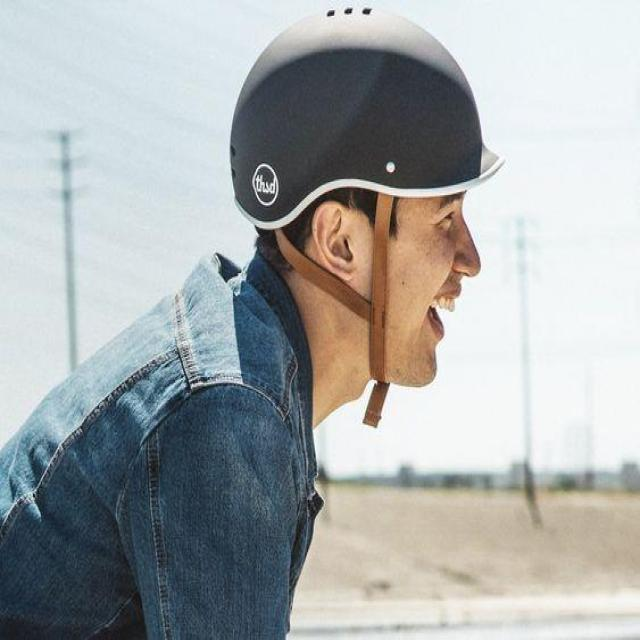Helmet: (230, 0, 500, 388)
